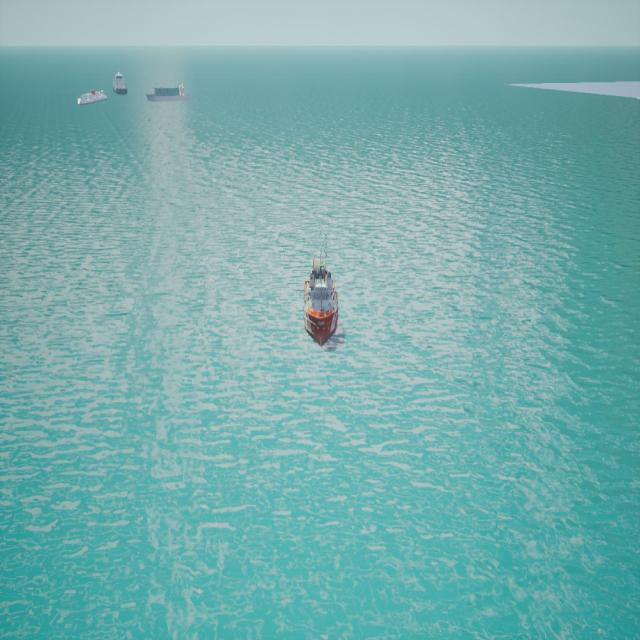tug boat: (305, 253, 339, 350)
